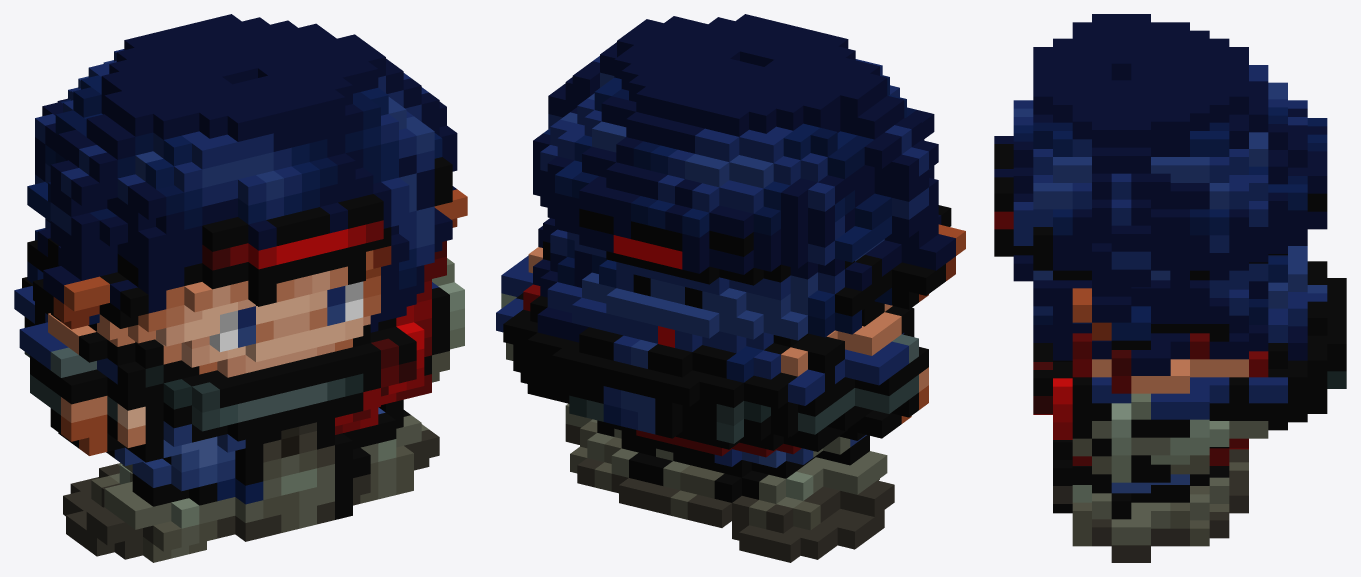
The model's file is Icon_101_03.obj.
The picture shows the model from 3 angles, left to right: view 1: azimuth 30°, elevation 25°; view 2: azimuth 150°, elevation 25°; view 3: azimuth 270°, elevation 25°; orthographic projection. The views are drawn at different scales.
Bounding box in the file's own units: 2.3 × 2.4 × 1.8.
